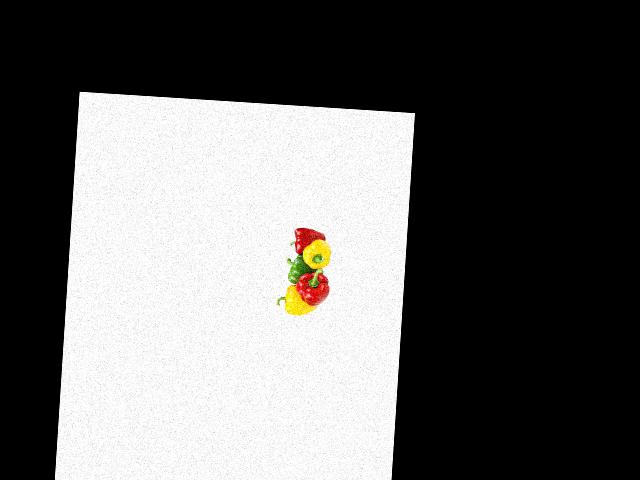bell_pepper: (288, 225, 321, 255)
